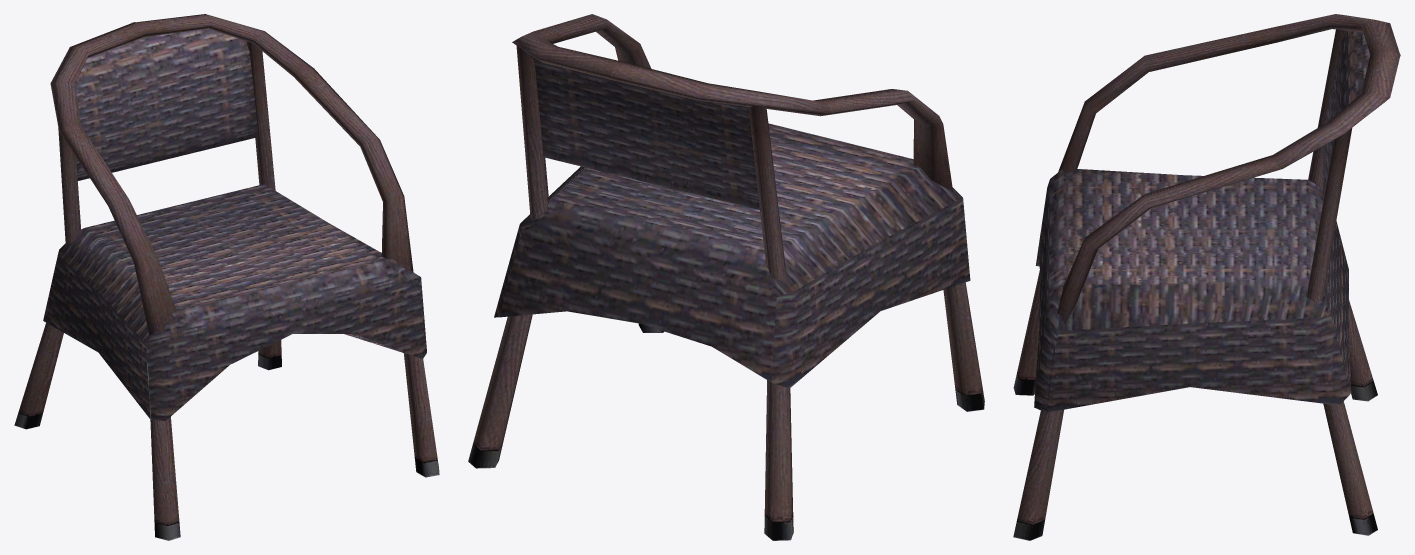
The model's file is furni_0200715.FBX.
The picture shows the model from 3 angles, left to right: view 1: azimuth 30°, elevation 25°; view 2: azimuth 150°, elevation 25°; view 3: azimuth 270°, elevation 25°; orthographic projection. The views are drawn at different scales.
Visible parts, largest first — view 1: furni_0200715; view 2: furni_0200715; view 3: furni_0200715.
Boxes of the visible parts, bbox=[...] form: furni_0200715: bbox=[14, 14, 439, 540]; furni_0200715: bbox=[468, 14, 984, 540]; furni_0200715: bbox=[1013, 14, 1400, 540].
Size of the model in its own units: 64.83 by 79.56 by 67.75.
Materials: 1 (1 with a texture image).
